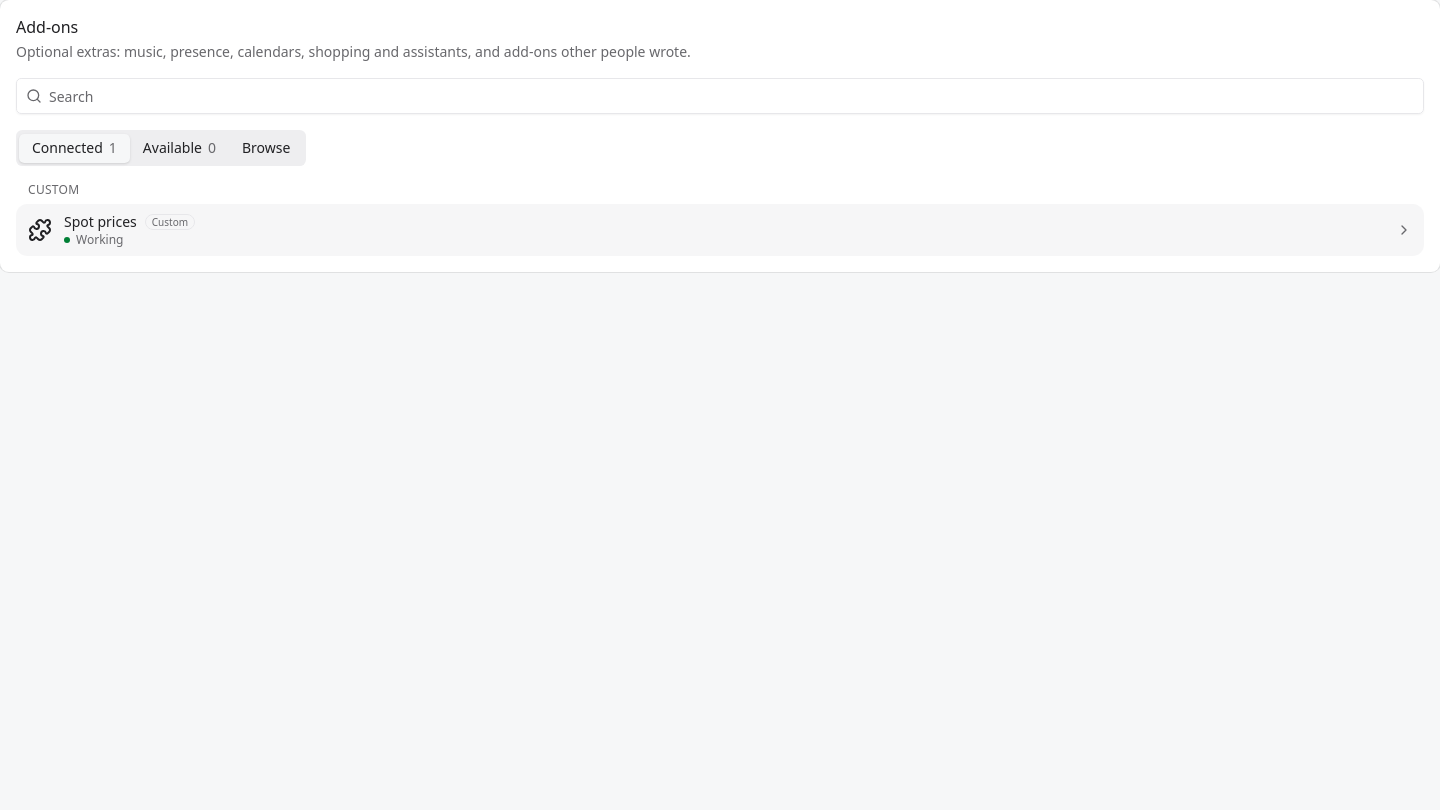
Test: the panel › notes a plugin built for an older Niles, and keeps a rollback notice
Click the button with aria-label "Configure Spot prices" at (100, 222), box [16,204,1424,256]
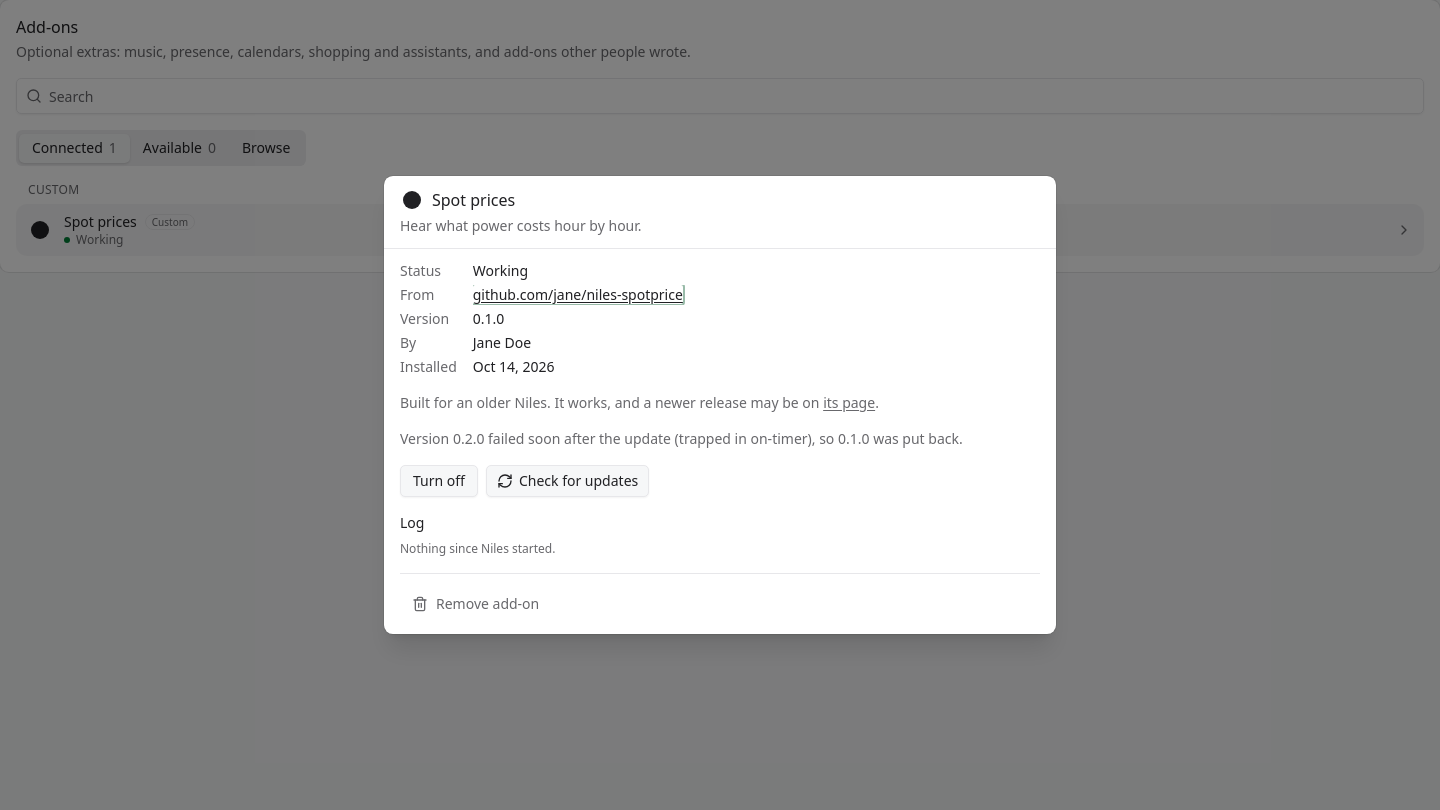
Expected: the text "Built for an older Niles" is shown, [400,393,820,412]
Expected: the text "0.1.0 was put back" is shown, [400,429,963,448]
